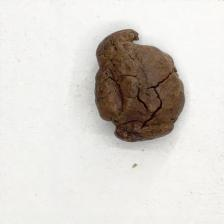NG: (94, 29, 185, 142)
